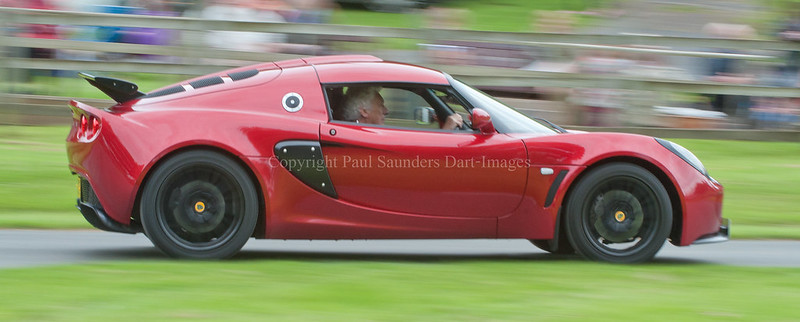car: (54, 50, 738, 273)
